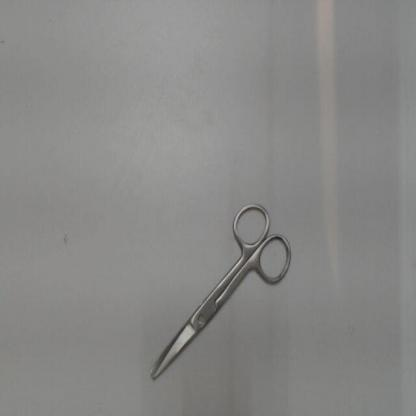Dressing Scissors: (139, 189, 302, 394)
